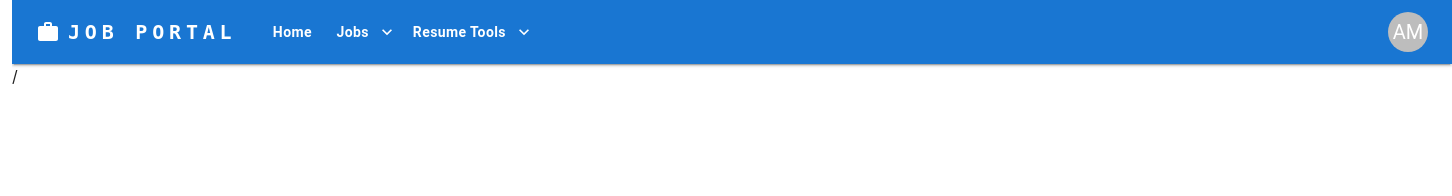
profile-menu logout navigation › Home profile menu logs out and navigates to Login
Click the button with aria-label "Account".
click(1408, 32)  # box [1388,12,1428,52]
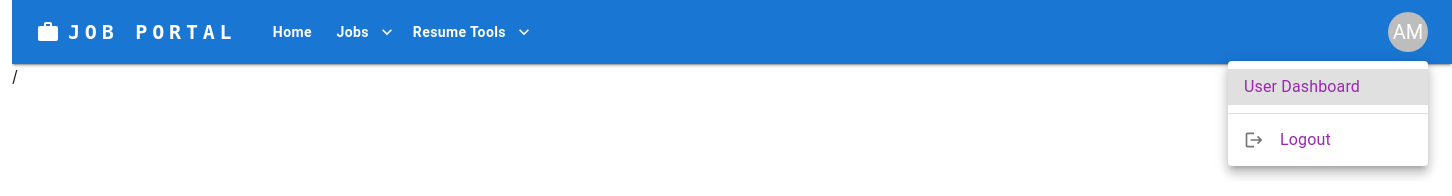
Click the menu item "Logout".
click(1287, 140)  # box [1244,130,1331,150]
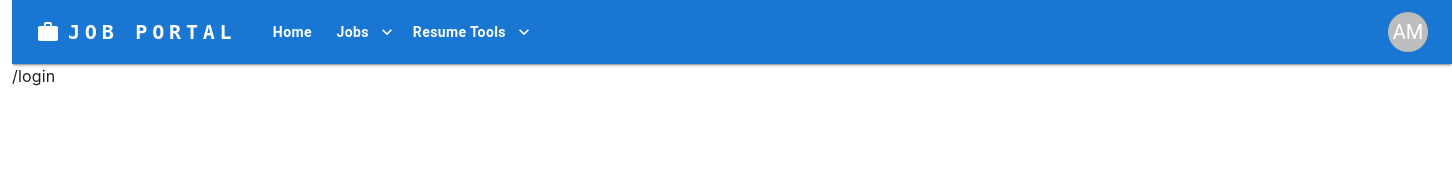
Result: the text with test id "current-path" reads "/login" at [12,66,55,86]
